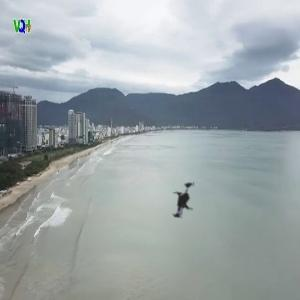drone: (143, 164, 219, 240)
